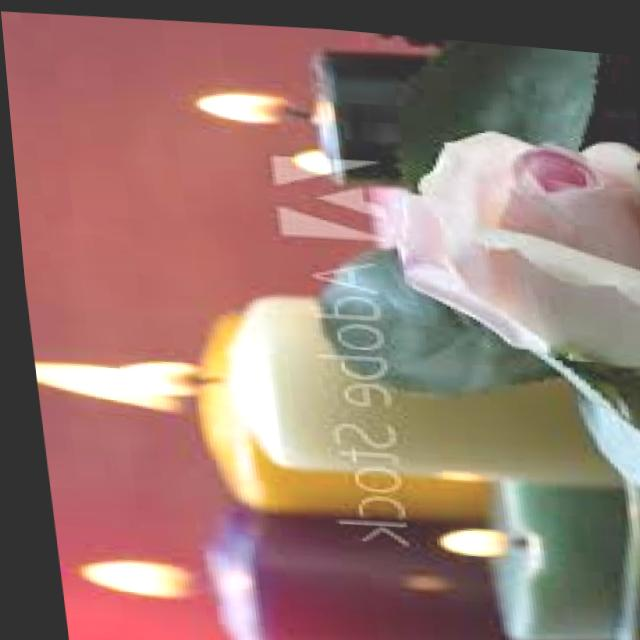Fire: (24, 338, 202, 422), (50, 543, 192, 606), (177, 71, 302, 131), (422, 512, 506, 558)
